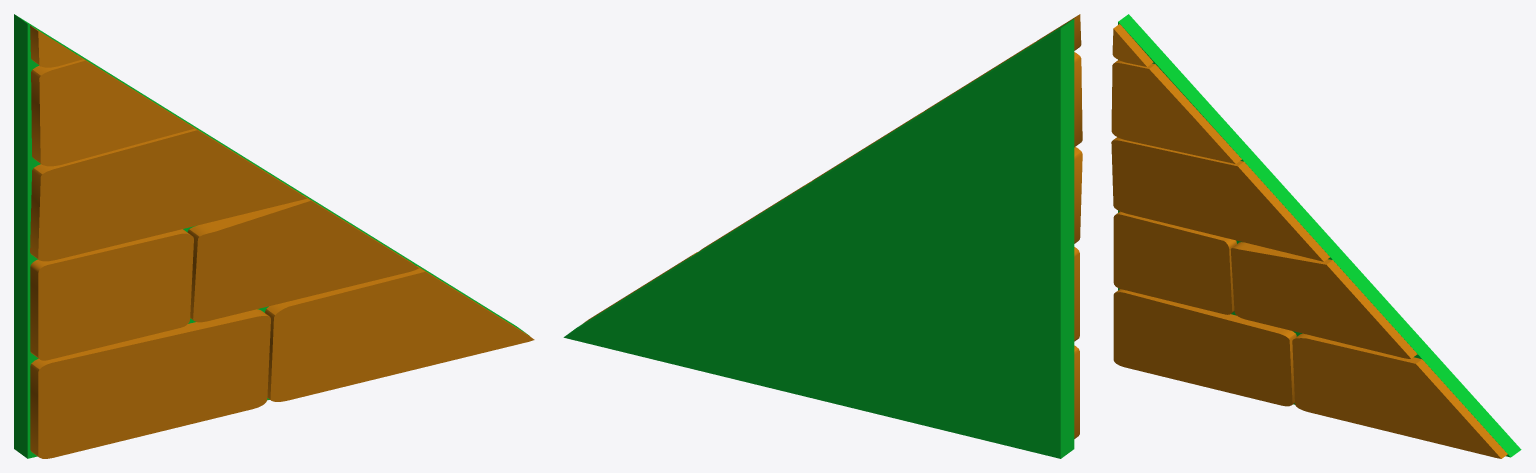
File: Unity HD Render Pipeline (Metallic Standard).fbx
3 views of the same model, side by side, from view 1: azimuth 30°, elevation 25°; view 2: azimuth 150°, elevation 25°; view 3: azimuth 330°, elevation 25° (orthographic). The views are drawn at different scales.
Parts seen in each view (by area): view 1: RoofWallExteriorSim (×2); view 2: RoofWallExteriorSim (×2); view 3: RoofWallExteriorSim (×2).
Part boxes in pixels (bbox=[...]): RoofWallExteriorSim (×2): bbox=[14, 14, 534, 458]; RoofWallExteriorSim (×2): bbox=[563, 14, 1082, 458]; RoofWallExteriorSim (×2): bbox=[1111, 14, 1521, 458].
Size of the model in its own units: 2.14 by 1.77 by 0.2183.
